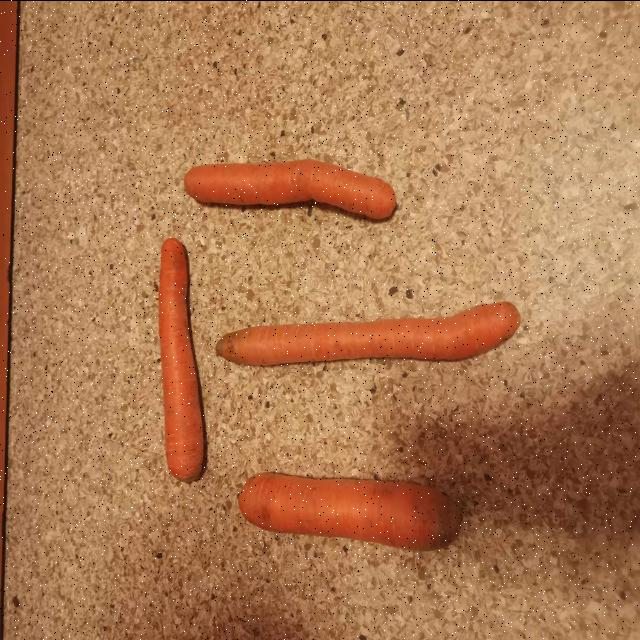carrot: (218, 300, 522, 366), (239, 471, 465, 550), (184, 157, 399, 222), (159, 236, 209, 483)
